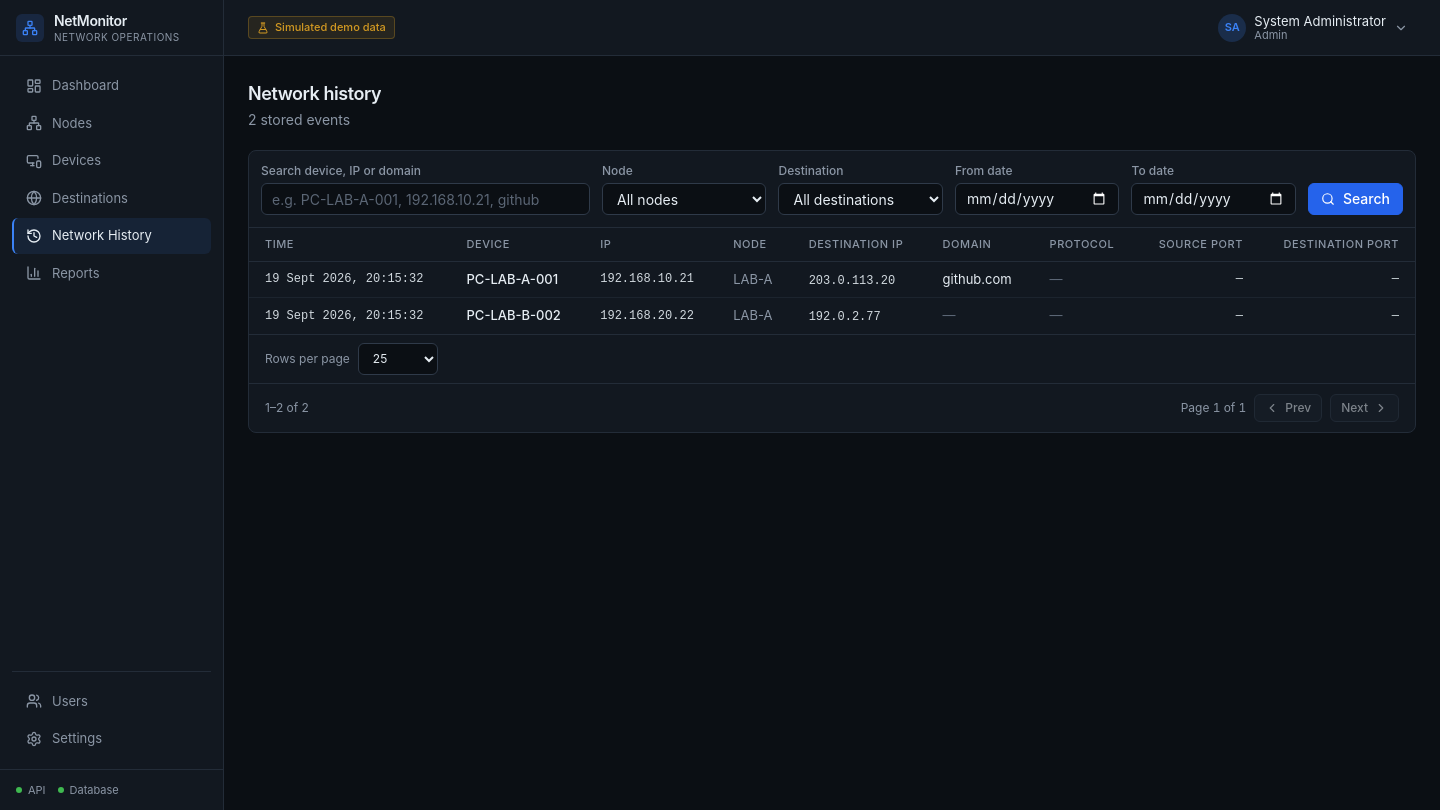
HistoryPage › shows the connection details of an event in its panel
Click the row "PC-LAB-A-001".
click(832, 279)  # box [249,261,1415,298]
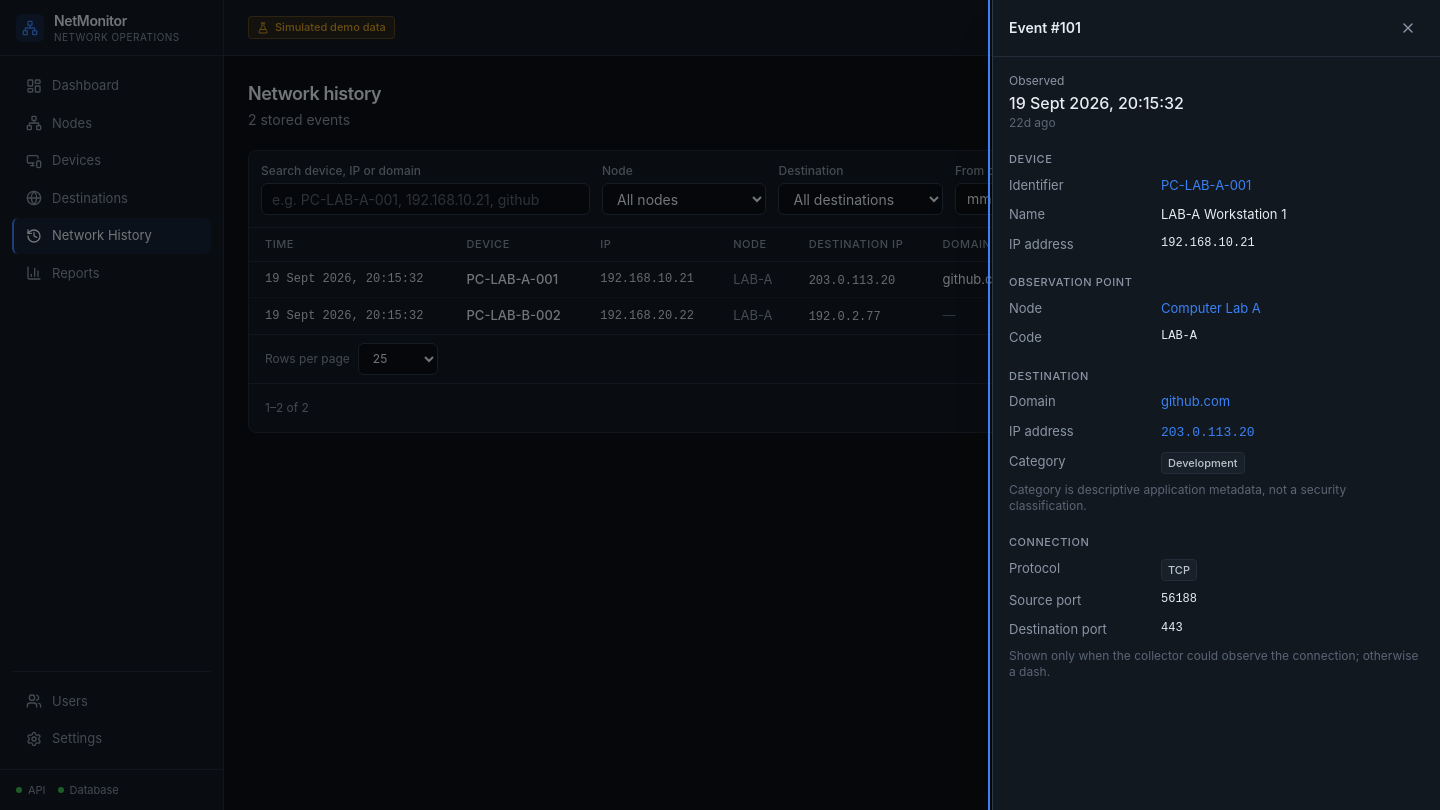
Check: the text "TCP" is shown, box [1161,558,1197,580]
Check: the text "56188" is shown, box [1161,592,1197,606]
Check: the text "443" is shown, box [1161,621,1183,635]
